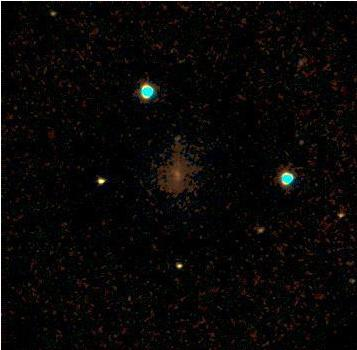star: (38, 0, 68, 27)
